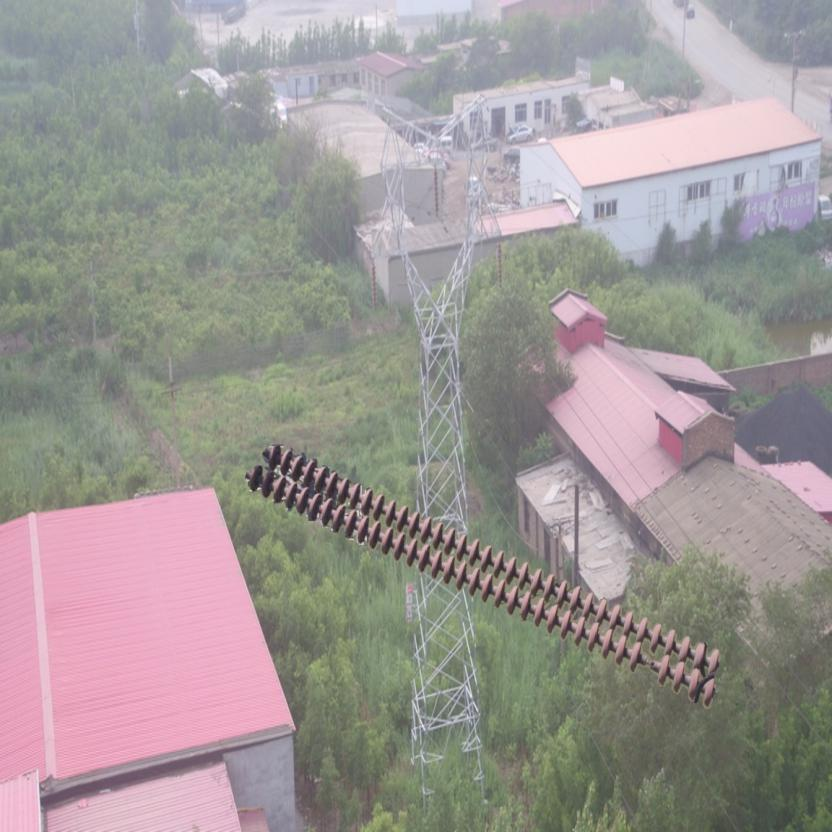defect: (625, 640, 674, 686)
